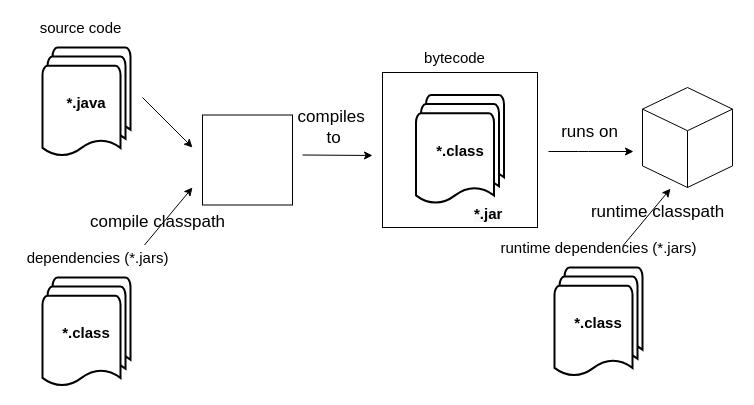
This 754x405 diagram has some shape labels left out. The centre of each missing label's shape, as x and y in pixels:
Compiler (javac): point 247,159
JVM: point 687,137
